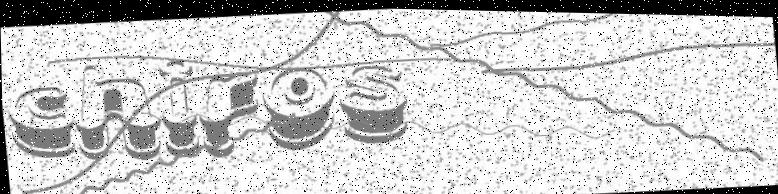c: (5, 83, 76, 161)
h: (68, 59, 163, 164)
i: (156, 57, 200, 157)
o: (259, 62, 339, 152)
r: (194, 69, 264, 159)
s: (334, 59, 410, 145)
